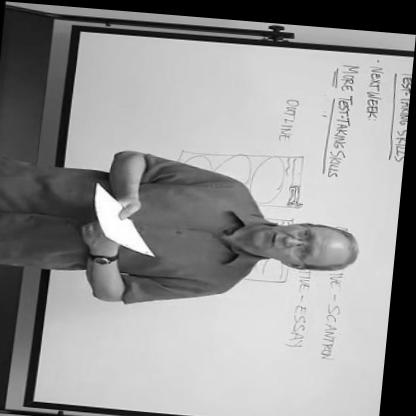Handwritten text: (326, 54, 367, 174), (386, 64, 413, 159), (299, 258, 329, 338), (324, 262, 350, 352), (366, 57, 395, 111)
Lecturer: (10, 139, 367, 316)
Whiteboard: (39, 18, 414, 416)
